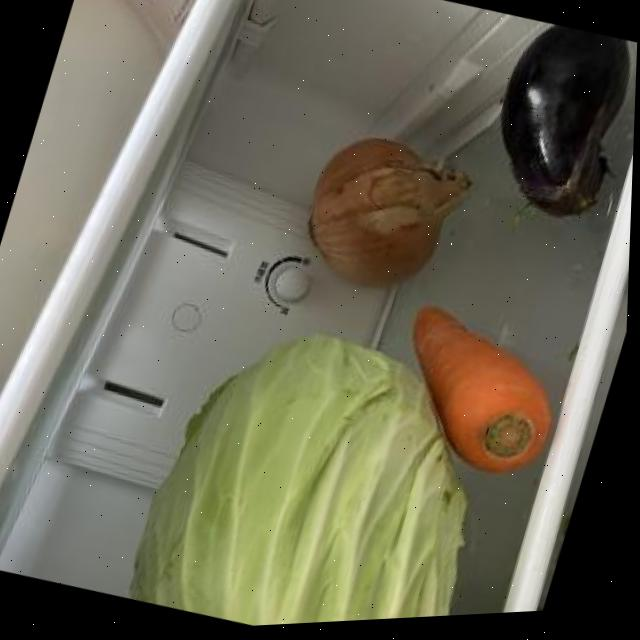Wet: (122, 294, 534, 634), (373, 296, 587, 498), (286, 120, 483, 315), (470, 17, 639, 238)
